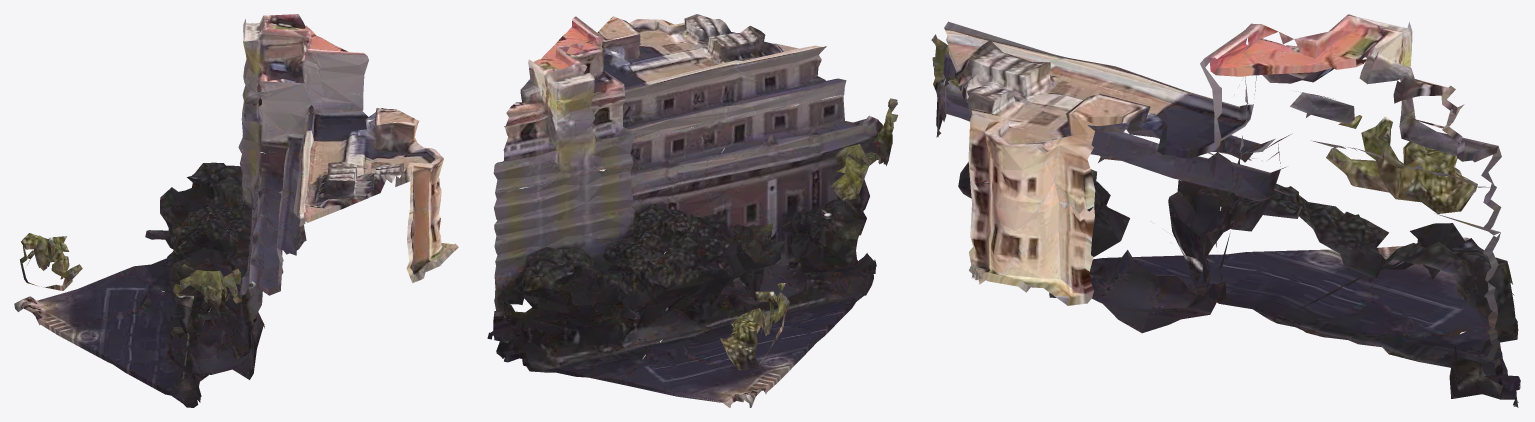
3 renders of one model, left to right at view 1: azimuth 30°, elevation 25°; view 2: azimuth 150°, elevation 25°; view 3: azimuth 270°, elevation 25°, orthographic. The views are drawn at different scales.
Visible parts, largest first — view 1: Mesh_0; view 2: Mesh_0; view 3: Mesh_0.
Boxes of the visible parts, x1,y1,x2,y2 form: Mesh_0: [14, 14, 458, 407]; Mesh_0: [487, 14, 897, 407]; Mesh_0: [931, 14, 1520, 407].
Bounding box in the file's own units: 33.44 × 30.3 × 41.5.
1 material, 1 textured.
